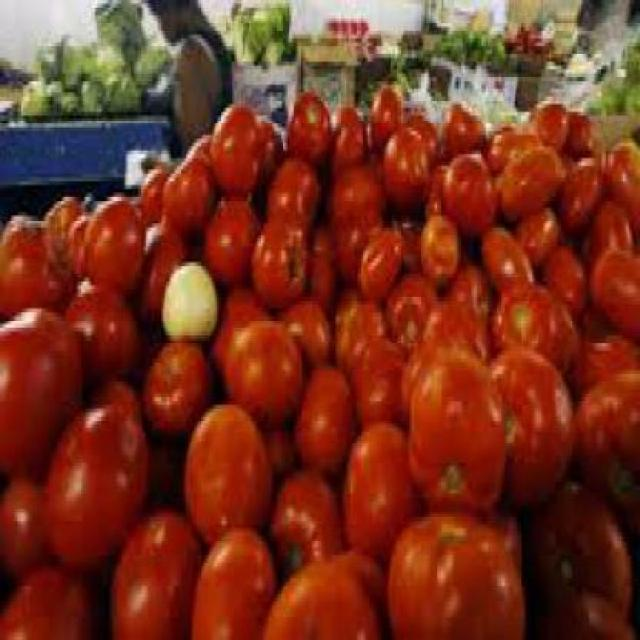BIODEGRADABLE: (392, 510, 530, 636), (47, 401, 151, 567), (410, 343, 508, 512), (537, 474, 634, 637), (2, 300, 87, 478), (492, 344, 574, 501), (186, 402, 277, 543), (112, 501, 205, 636), (344, 417, 424, 563), (266, 544, 389, 636), (577, 362, 638, 522), (194, 521, 277, 636), (67, 274, 150, 381), (1, 208, 78, 320), (226, 312, 306, 417), (2, 556, 106, 636), (494, 281, 578, 374), (148, 335, 220, 440), (325, 158, 387, 278), (275, 467, 342, 575), (82, 189, 146, 300), (298, 362, 359, 470), (2, 467, 53, 582), (351, 332, 409, 432), (205, 193, 264, 285), (254, 208, 311, 301), (140, 216, 186, 324), (499, 142, 566, 216), (384, 120, 433, 212), (215, 282, 271, 362), (541, 234, 590, 324), (388, 266, 438, 354), (216, 101, 262, 196), (590, 242, 638, 332), (85, 38, 143, 112), (268, 150, 323, 228), (226, 0, 294, 62), (602, 132, 640, 242), (334, 286, 386, 366), (444, 147, 496, 227), (165, 258, 220, 332), (427, 294, 490, 358), (167, 151, 216, 231), (88, 370, 150, 428), (560, 150, 606, 228), (482, 224, 538, 288), (580, 331, 638, 392), (286, 293, 336, 362), (289, 89, 334, 162), (592, 190, 636, 258), (596, 39, 638, 110), (422, 208, 462, 282), (48, 193, 84, 270), (359, 228, 404, 289), (439, 104, 488, 158), (97, 0, 146, 54), (518, 208, 562, 262), (308, 223, 339, 297), (333, 100, 370, 162), (443, 254, 492, 300), (372, 84, 403, 154), (490, 123, 545, 162), (530, 97, 573, 146), (258, 111, 287, 180), (140, 162, 171, 220), (137, 36, 171, 84), (262, 420, 298, 463), (68, 212, 90, 282), (67, 39, 101, 84), (36, 31, 67, 80), (566, 112, 602, 154), (412, 109, 439, 158), (20, 77, 58, 111), (428, 154, 450, 212), (46, 84, 83, 108), (465, 24, 490, 58), (324, 15, 374, 31), (436, 27, 464, 55), (190, 131, 213, 154), (490, 35, 508, 62)
